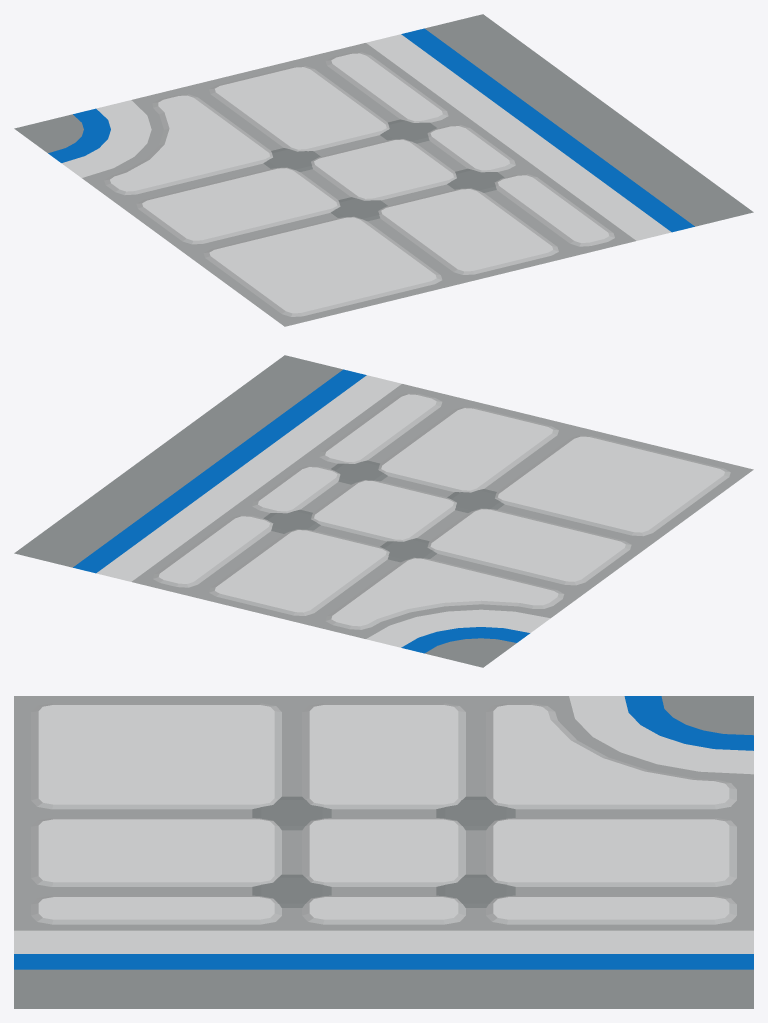
The model's file is Floor_type_A_034.glb.
3 renders of one model, top to bottom at view 1: azimuth 30°, elevation 25°; view 2: azimuth 150°, elevation 25°; view 3: azimuth 270°, elevation 25°, orthographic. The views are drawn at different scales.
Parts seen in each view (by area): view 1: Floor_type_A_034; view 2: Floor_type_A_034; view 3: Floor_type_A_034.
Boxes of the visible parts, x1,y1,x2,y2 form: Floor_type_A_034: (14, 14, 753, 326); Floor_type_A_034: (14, 355, 753, 667); Floor_type_A_034: (14, 696, 753, 1008).
Bounding box in the file's own units: 4 × 0.0134 × 4.
2 materials, 2 textured.
